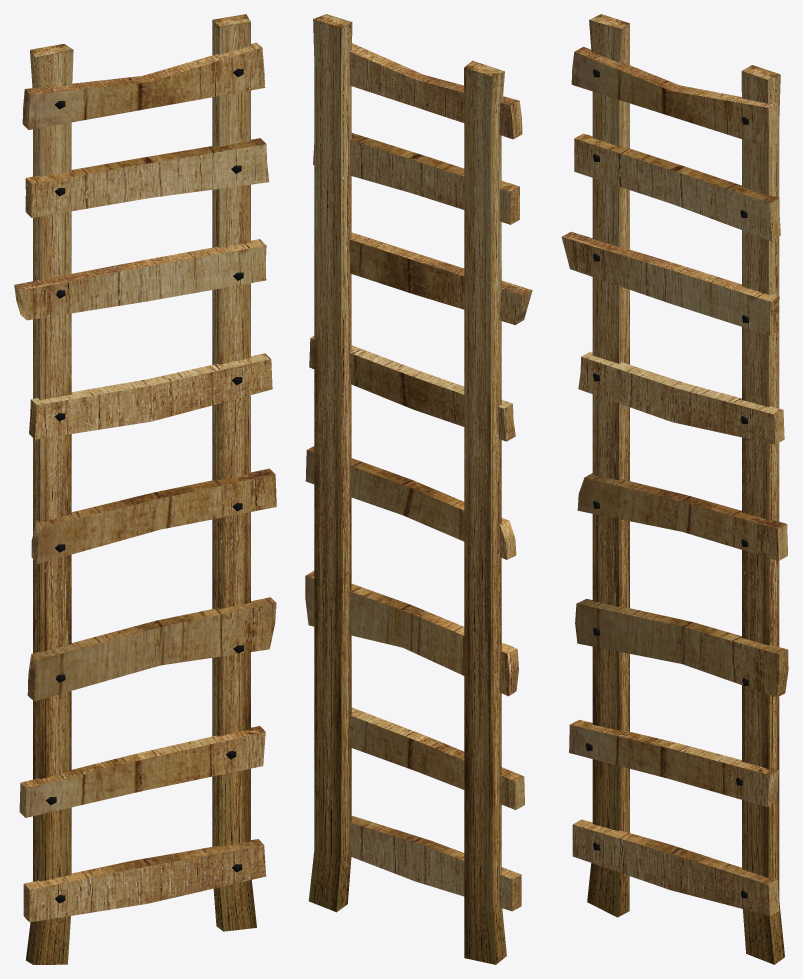
File: wooden-ladder-low-poly.obj
3 renders of one model, left to right at view 1: azimuth 30°, elevation 25°; view 2: azimuth 150°, elevation 25°; view 3: azimuth 330°, elevation 25°, orthographic. The views are drawn at different scales.
Visible parts, largest first — view 1: planks, stck, nails; view 2: stck, planks; view 3: planks, stck, nails.
Part boxes in pixels (x1,y1,x2,y2): planks: (14,42,276,922); stck: (26,14,256,964); nails: (46,68,243,903); stck: (308,14,506,964); planks: (305,43,532,911); planks: (561,46,788,915); stck: (587,14,784,964); nails: (585,69,749,898).
Size of the model in its own units: 819 by 2956 by 191.
3 materials, 3 textured.
